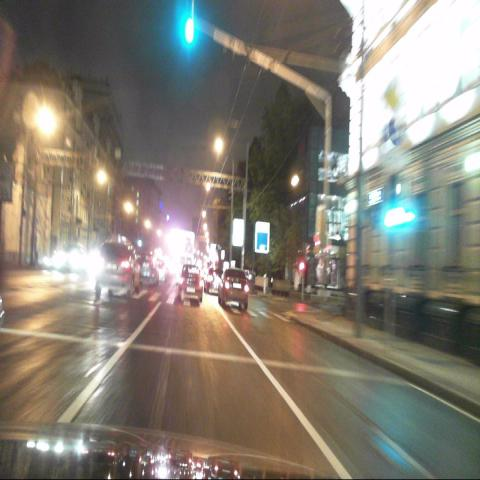2_1: (384, 76, 406, 112)
